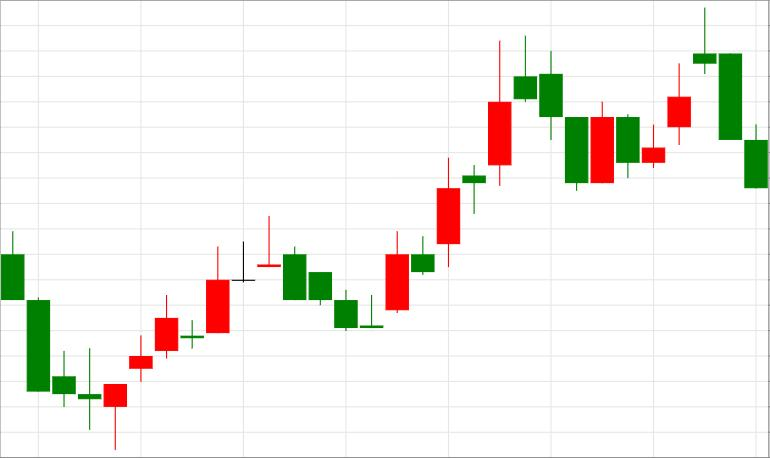hammer_rise: (1, 231, 127, 451)
shooting_star_fall: (386, 36, 537, 312)
